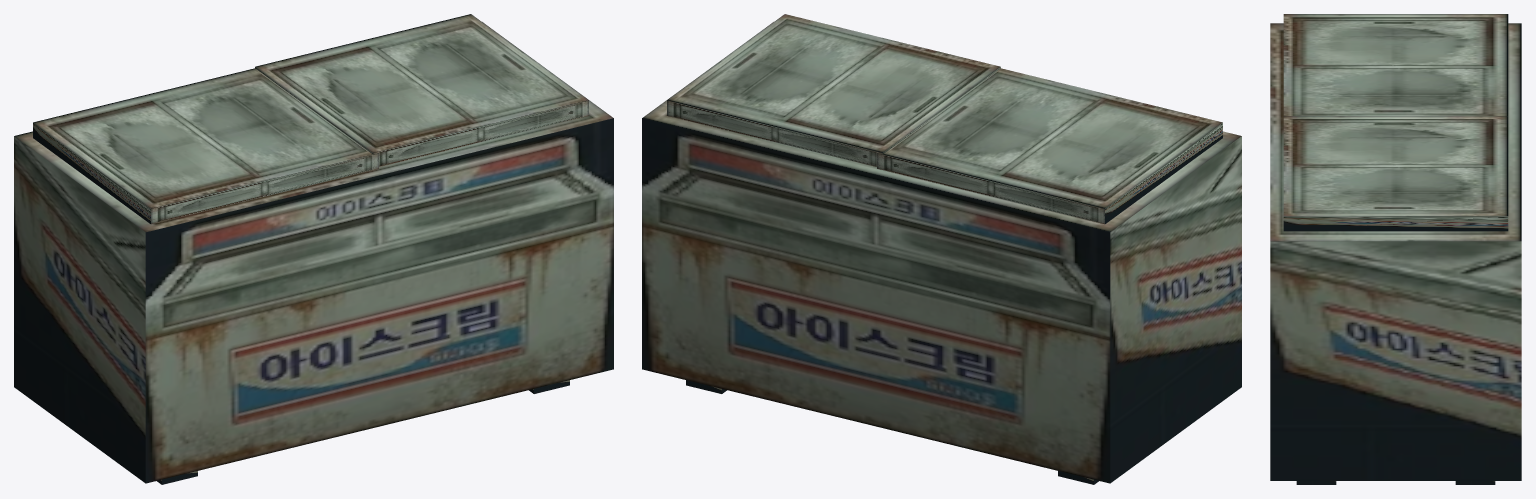
File: sf_icecream_freezer.glb
3 renders of one model, left to right at view 1: azimuth 30°, elevation 25°; view 2: azimuth 150°, elevation 25°; view 3: azimuth 270°, elevation 25°, orthographic. The views are drawn at different scales.
Parts seen in each view (by area): view 1: IceCreamChestFreezer_Root, IceCreamChestFreezer_AnimPart; view 2: IceCreamChestFreezer_Root, IceCreamChestFreezer_AnimPart; view 3: IceCreamChestFreezer_Root, IceCreamChestFreezer_AnimPart.
Part boxes in pixels (x1=…): IceCreamChestFreezer_Root: x1=14, y1=22, x2=613, y2=484; IceCreamChestFreezer_AnimPart: x1=255, y1=14, x2=588, y2=168; IceCreamChestFreezer_Root: x1=642, y1=22, x2=1241, y2=484; IceCreamChestFreezer_AnimPart: x1=667, y1=14, x2=1000, y2=167; IceCreamChestFreezer_Root: x1=1270, y1=14, x2=1521, y2=484; IceCreamChestFreezer_AnimPart: x1=1283, y1=116, x2=1508, y2=231.
Bounding box in the file's own units: 1.56 × 0.915 × 0.76.
Materials: 1 (1 with a texture image).
